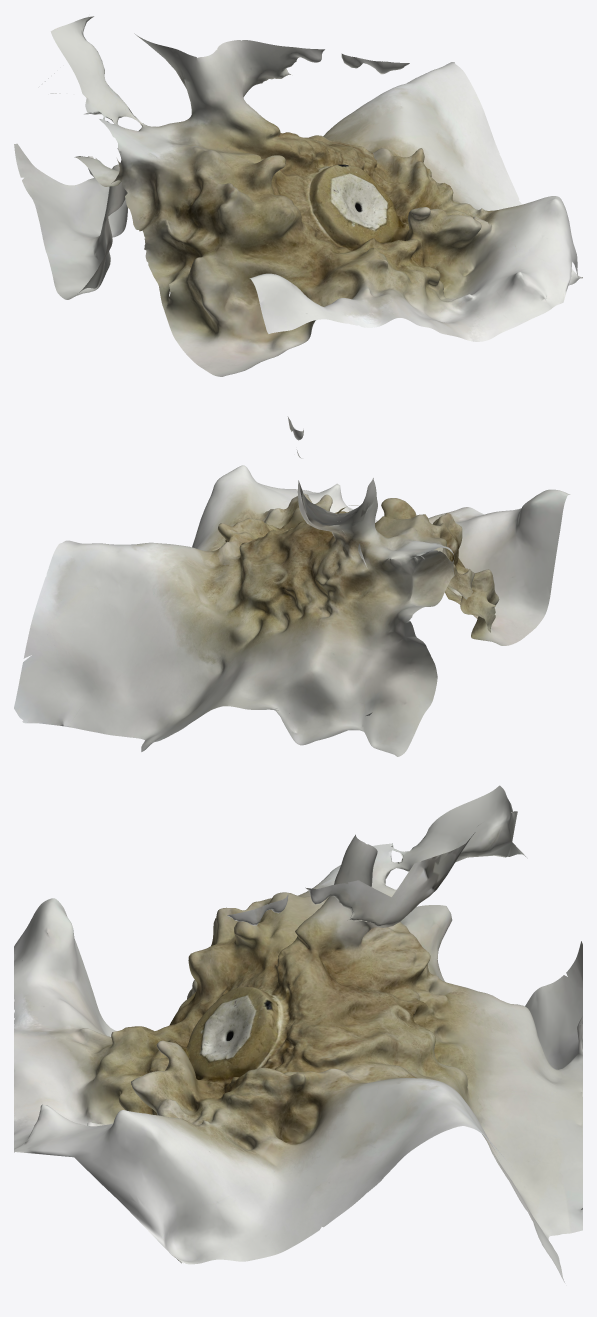
3 views of the same model, one above another, from view 1: azimuth 30°, elevation 25°; view 2: azimuth 150°, elevation 25°; view 3: azimuth 270°, elevation 25° (orthographic). The views are drawn at different scales.
Bounding box in the file's own units: 1.04 × 0.7056 × 1.17.
Materials: 1 (1 with a texture image).
